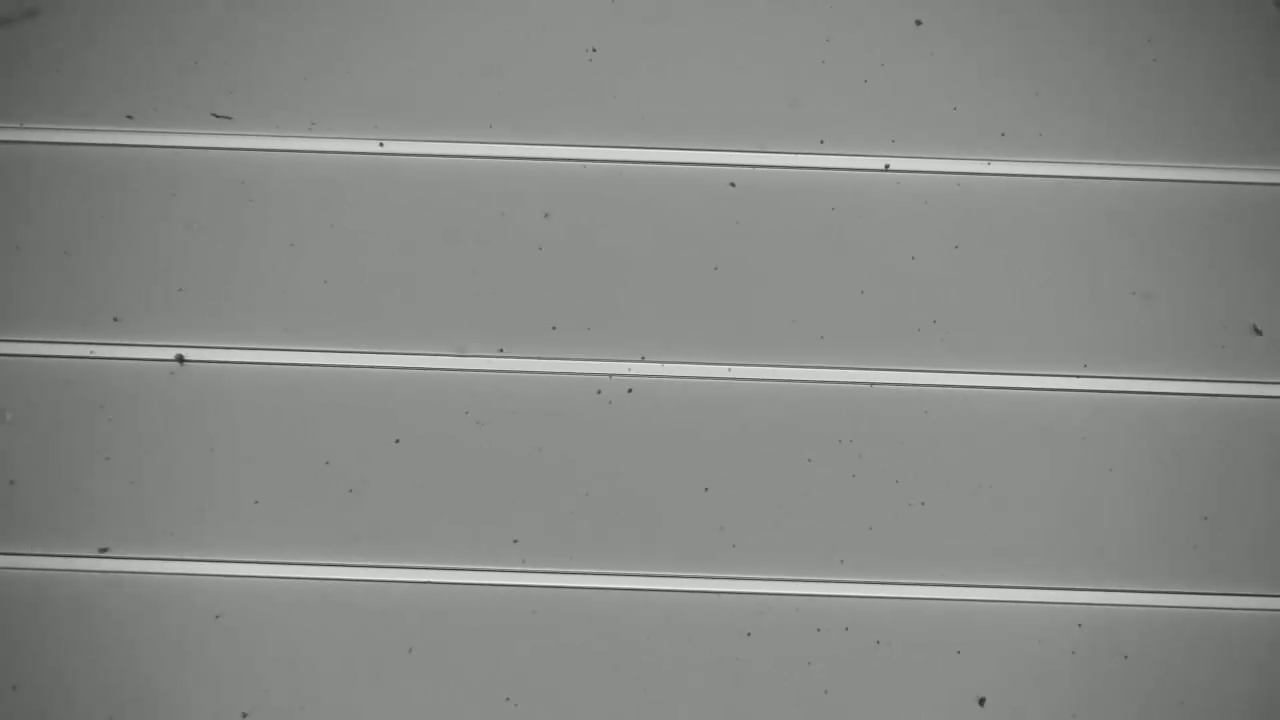stains_enbedded: (163, 337, 192, 375)
